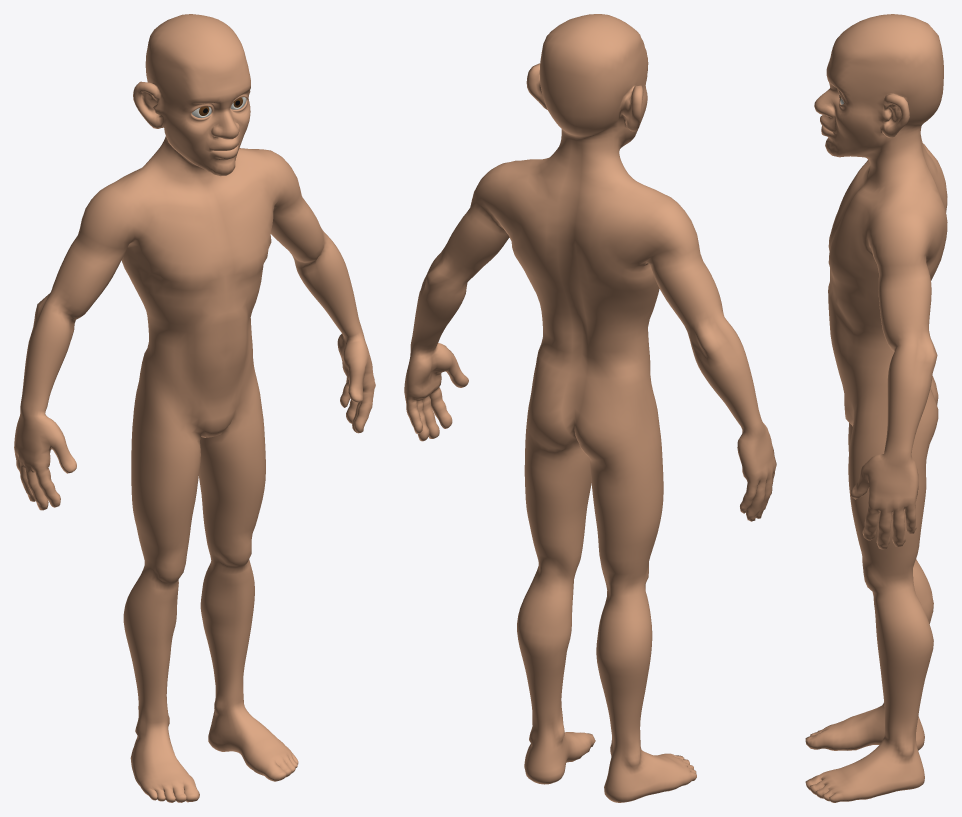
The model's file is bodyMale-stylized.glb.
3 renders of one model, left to right at view 1: azimuth 30°, elevation 25°; view 2: azimuth 150°, elevation 25°; view 3: azimuth 270°, elevation 25°, orthographic. The views are drawn at different scales.
Visible parts, largest first — view 1: GEO-body_male_stylized-torso, GEO-body_male_stylized-right_leg, GEO-body_male_stylized-left_leg, GEO-body_male_stylized-right_arm, GEO-body_male_stylized-head, GEO-body_male_stylized-left_arm; view 2: GEO-body_male_stylized-torso, GEO-body_male_stylized-right_leg, GEO-body_male_stylized-left_leg, GEO-body_male_stylized-right_arm, GEO-body_male_stylized-head, GEO-body_male_stylized-left_arm; view 3: GEO-body_male_stylized-torso, GEO-body_male_stylized-left_arm, GEO-body_male_stylized-left_leg, GEO-body_male_stylized-head, GEO-body_male_stylized-right_leg.
Boxes of the visible parts, x1,y1,x2,y2 form: GEO-body_male_stylized-torso: [114, 137, 284, 453]; GEO-body_male_stylized-right_leg: [123, 426, 200, 802]; GEO-body_male_stylized-left_leg: [199, 419, 298, 781]; GEO-body_male_stylized-right_arm: [14, 182, 134, 510]; GEO-body_male_stylized-head: [133, 14, 250, 164]; GEO-body_male_stylized-left_arm: [252, 149, 375, 433]; GEO-body_male_stylized-torso: [489, 140, 663, 464]; GEO-body_male_stylized-right_leg: [585, 440, 696, 802]; GEO-body_male_stylized-left_leg: [517, 429, 595, 784]; GEO-body_male_stylized-right_arm: [639, 194, 776, 521]; GEO-body_male_stylized-head: [526, 14, 648, 157]; GEO-body_male_stylized-left_arm: [404, 160, 520, 441]; GEO-body_male_stylized-torso: [825, 135, 947, 459]; GEO-body_male_stylized-left_arm: [850, 207, 937, 549]; GEO-body_male_stylized-left_leg: [805, 446, 933, 802]; GEO-body_male_stylized-head: [814, 14, 943, 152]; GEO-body_male_stylized-right_leg: [805, 423, 933, 750].
Bounding box in the file's own units: 0.8793 × 1.8 × 0.3084.
